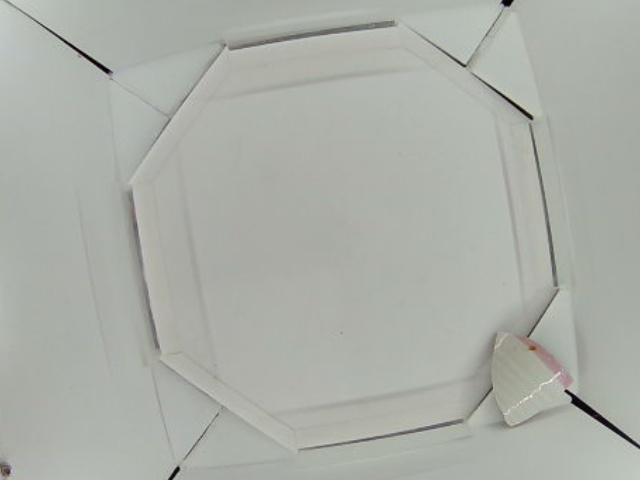China: (487, 324, 576, 426)
